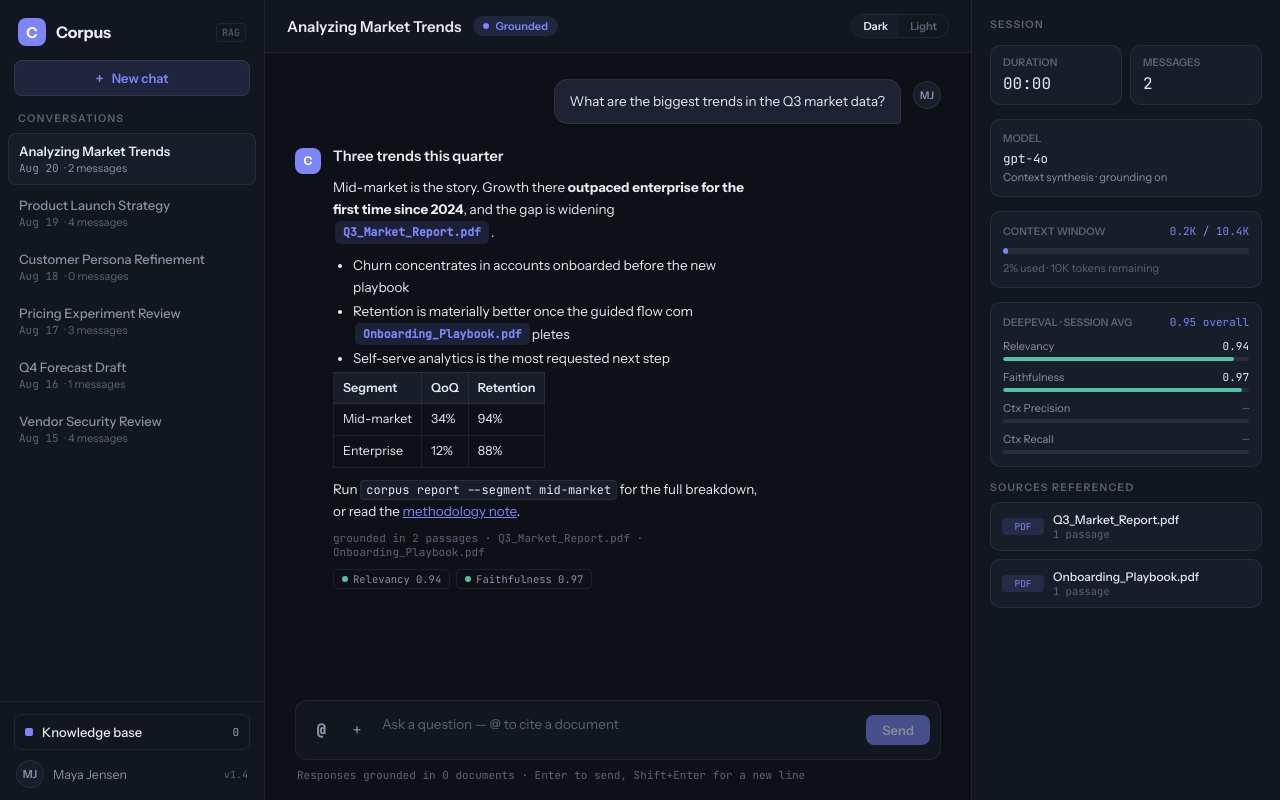
Test: the conversations list (FR-SBR-02/03/04/07) › FR-SBR-02 creates a chat on the server and selects the id it answers with
The width and height of the screenshot is (1280, 800).
Expected: the heading "Analyzing Market Trends" is shown, [287,16,461,36]
Expected: the text "0.2K / 10.4K" is shown, [1170,224,1249,238]
Click the button "+ New chat".
click(132, 78)  # box [14,60,250,96]
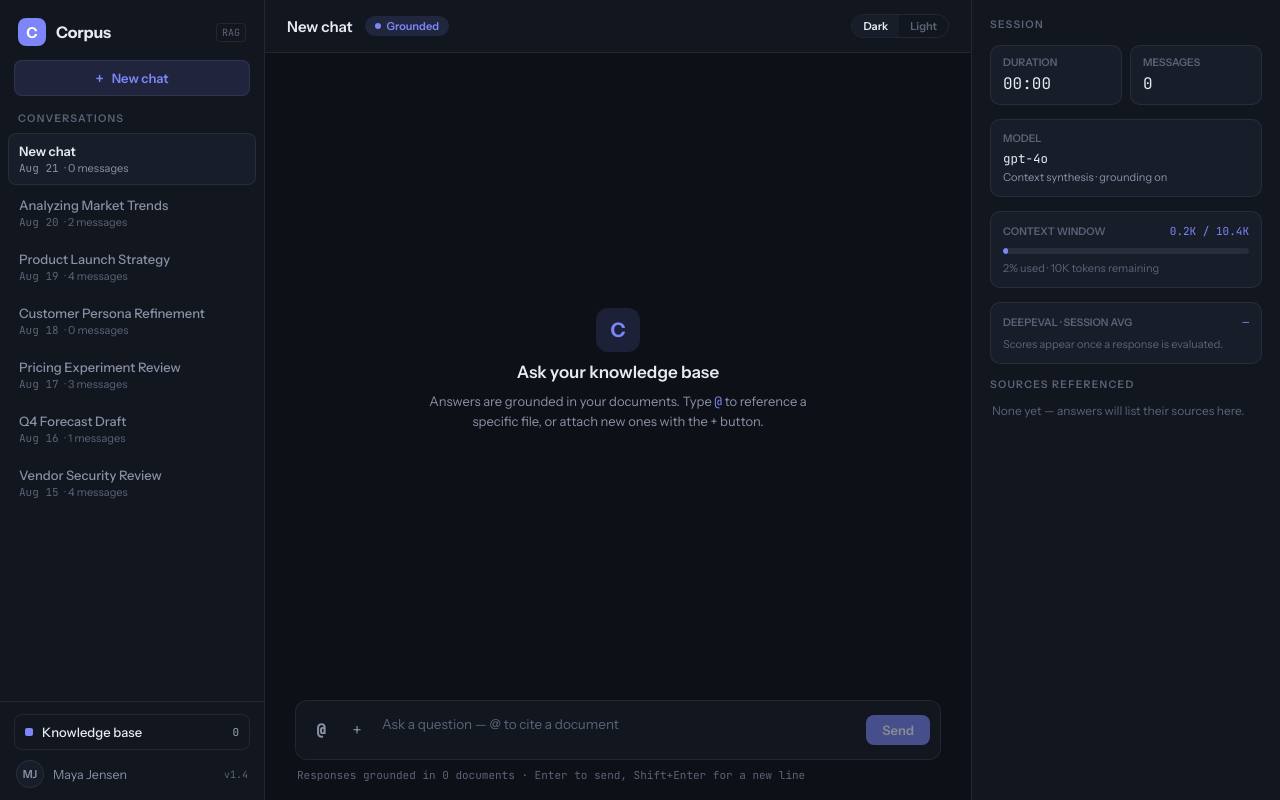
Now the heading "New chat" is shown, box [287,16,352,36]
